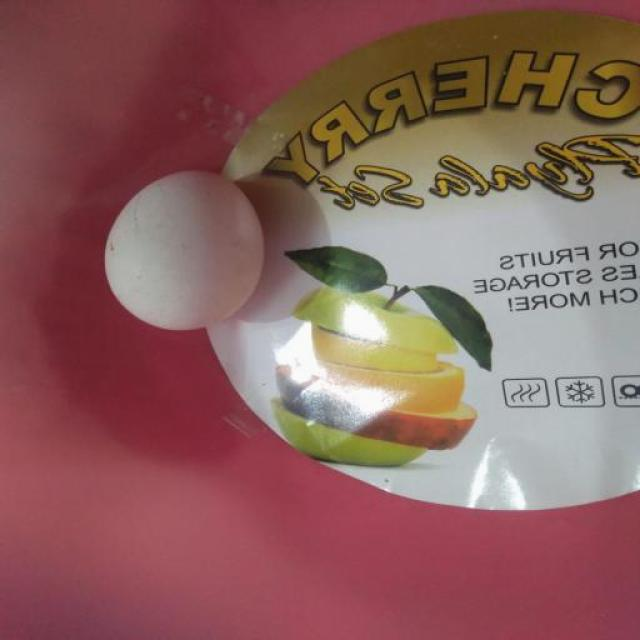telur: (105, 170, 264, 331)
